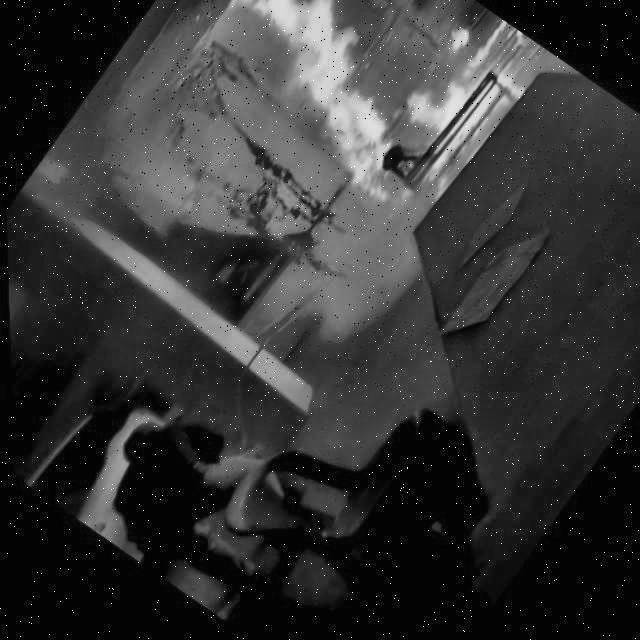Fire: (175, 0, 476, 228)
